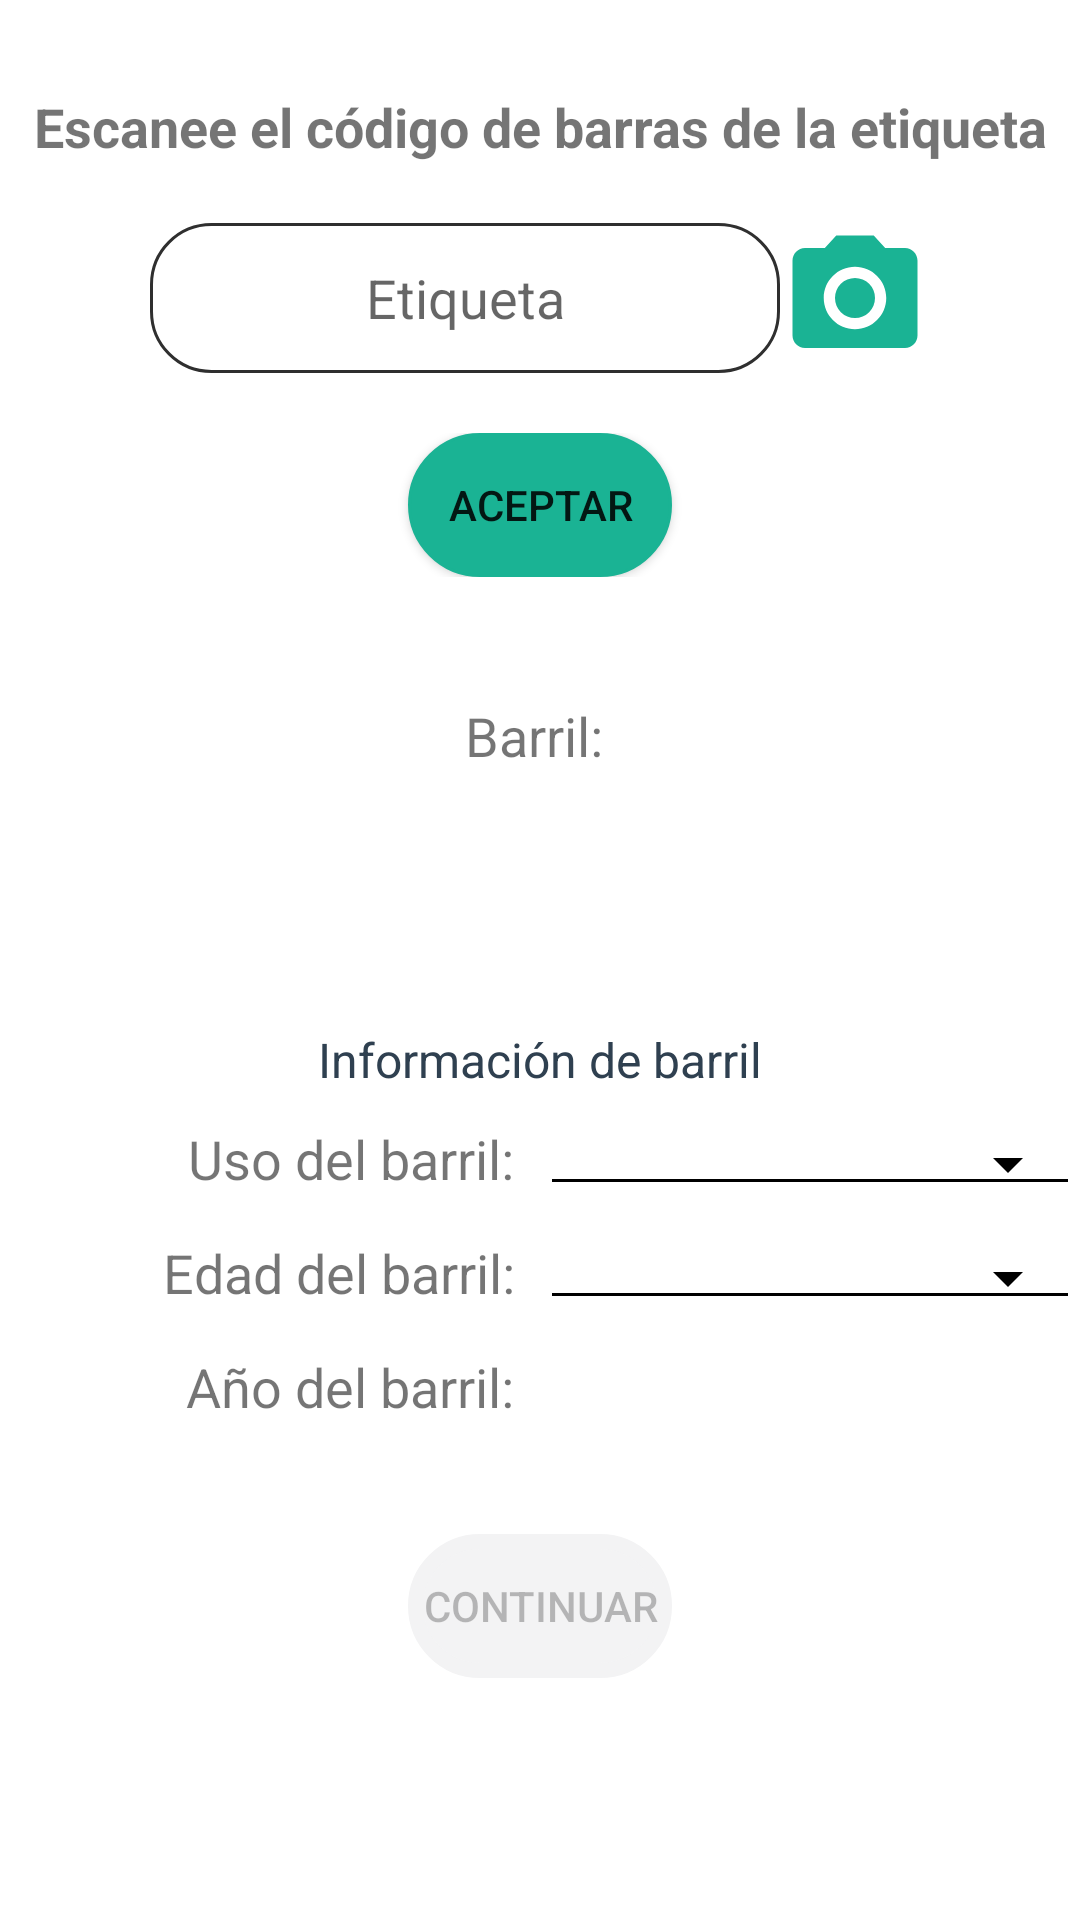

Icons on this 1080px×1920px Android screen, each with the point to tap as [x,y]:
photo camera: [855,291]
